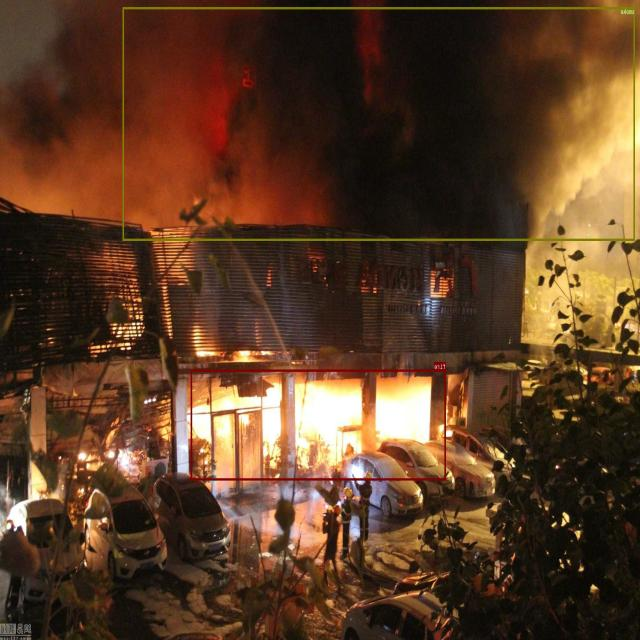fire: (191, 369, 446, 480)
smoke: (123, 7, 635, 240)
